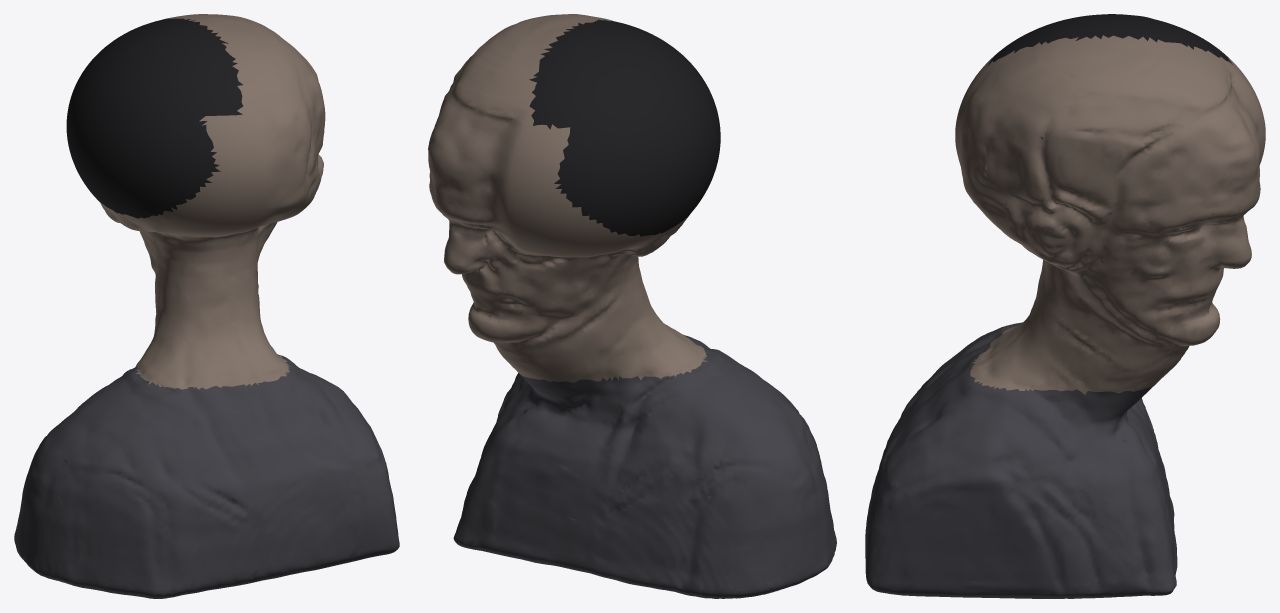
File: old_captain_bust.glb
3 renders of one model, left to right at view 1: azimuth 30°, elevation 25°; view 2: azimuth 150°, elevation 25°; view 3: azimuth 270°, elevation 25°, orthographic. The views are drawn at different scales.
Visible parts, largest first — view 1: captain; view 2: captain; view 3: captain.
Boxes of the visible parts, bbox=[...] form: captain: bbox=[14, 14, 399, 598]; captain: bbox=[428, 14, 836, 598]; captain: bbox=[865, 14, 1265, 598].
Size of the model in its own units: 2.13 by 3.21 by 2.22.
